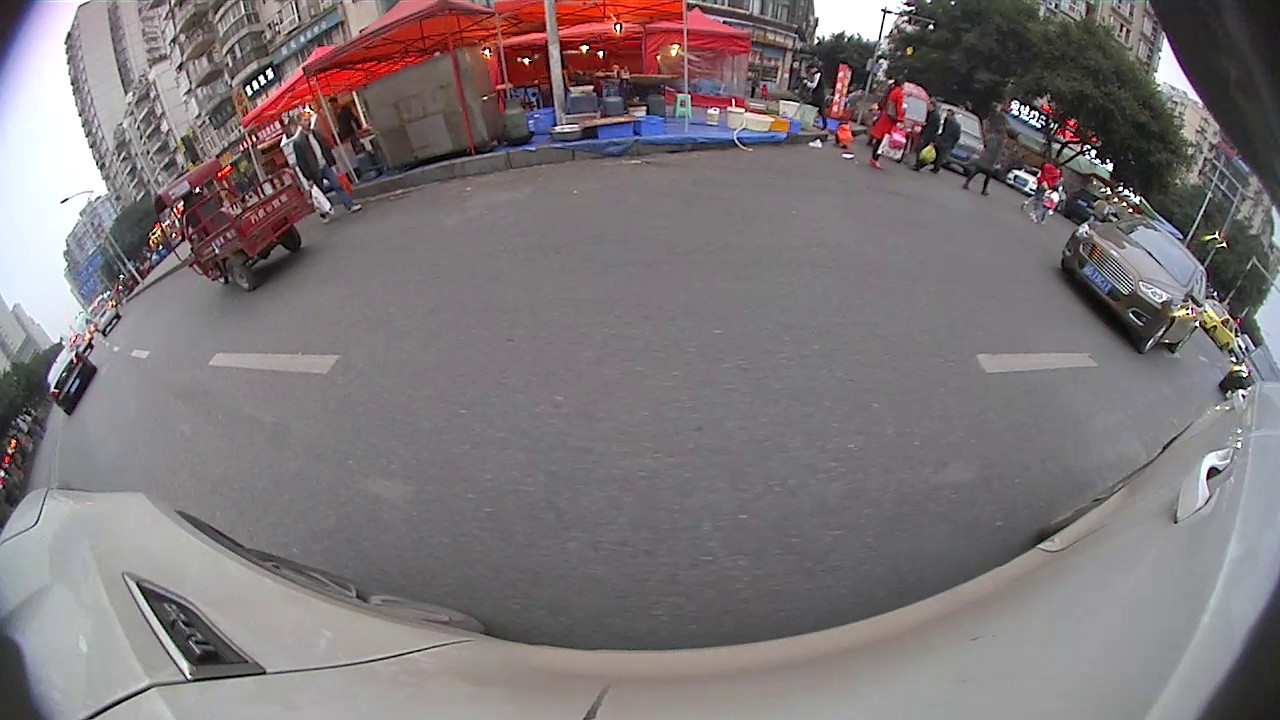car: (1056, 212, 1211, 357), (47, 339, 100, 416), (1196, 292, 1239, 356), (82, 289, 125, 338)
front: (1137, 315, 1175, 357)
person: (293, 106, 336, 225), (877, 70, 905, 174), (1036, 148, 1064, 219), (934, 104, 964, 170), (983, 120, 1008, 198), (920, 102, 944, 171), (1046, 182, 1061, 230)
rear: (225, 257, 254, 294)
rider: (152, 155, 313, 292)
